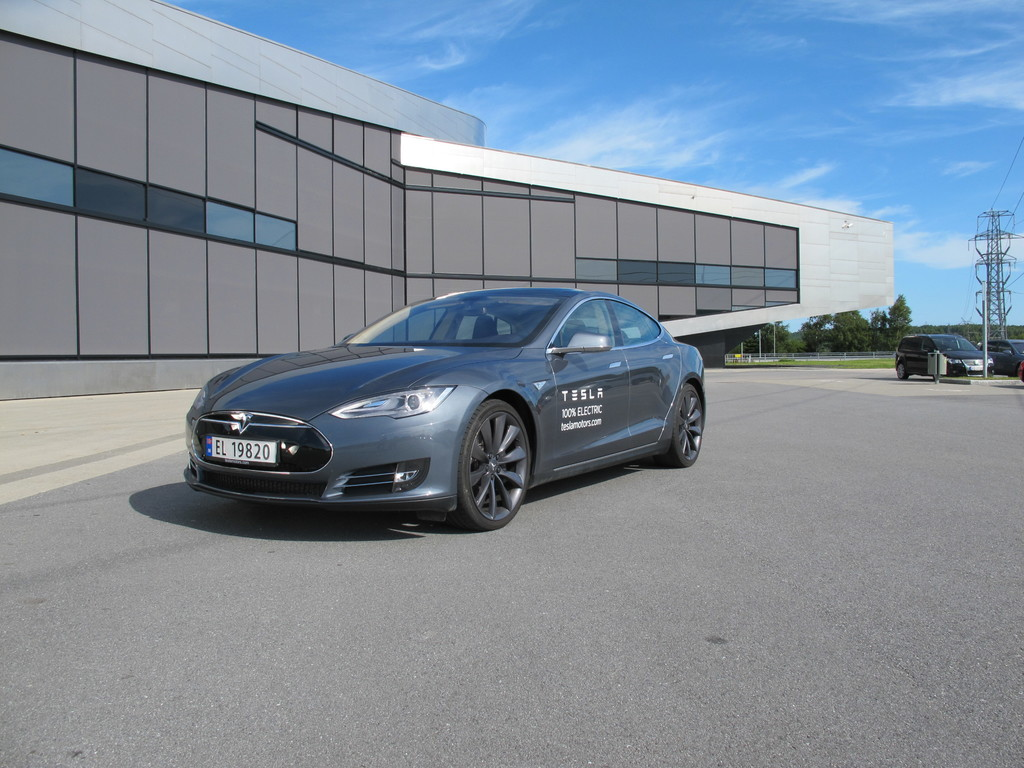Car: (183, 279, 707, 526), (889, 332, 1002, 378), (979, 336, 1023, 378)
